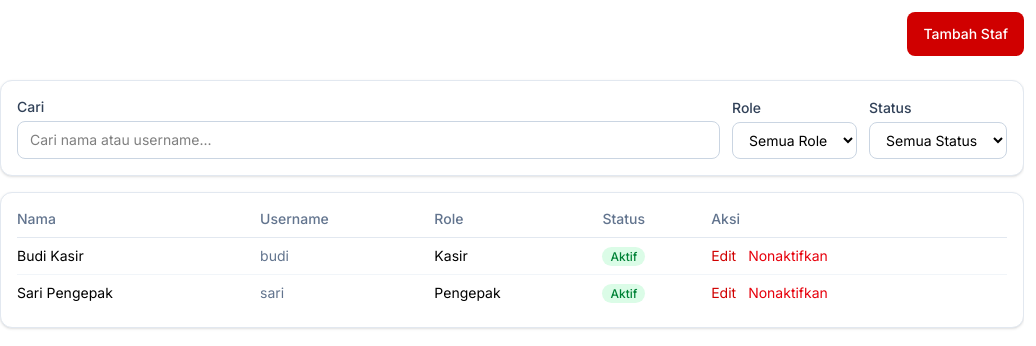
Test: StaffPage › search bar -- juga cocok lewat username, bukan cuma nama
The width and height of the screenshot is (1036, 346).
Expected: the text "Budi Kasir" is shown, x1=17 y1=238 x2=260 y2=274
Type "budi" into the field labelled "Cari".
click(368, 140); type("budi")  # box x1=17 y1=121 x2=720 y2=159
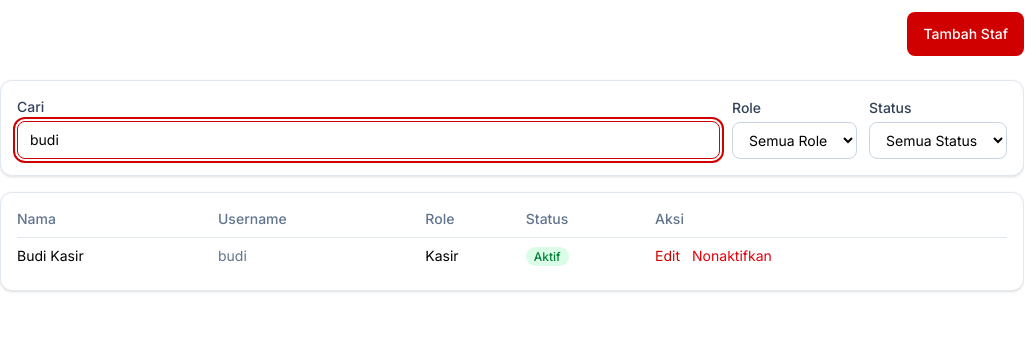
Expected: the text "Budi Kasir" is shown, x1=17 y1=238 x2=218 y2=274
Result: the text "Sari Pengepak" is gone
